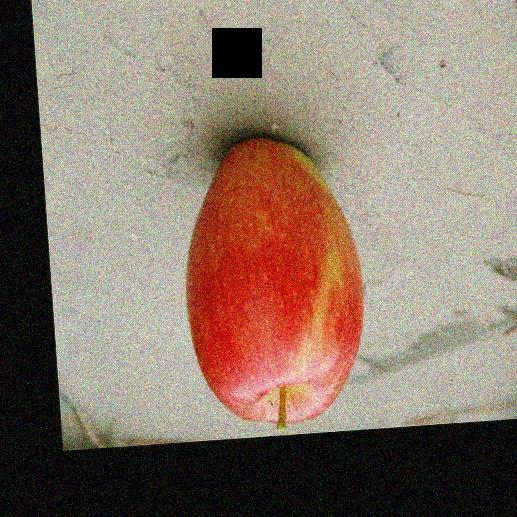red apple: (184, 138, 362, 428)
